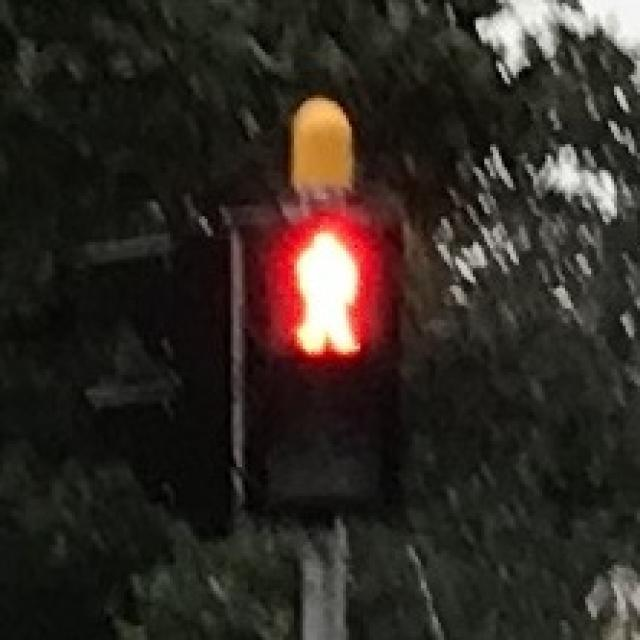red-crossing: (248, 202, 392, 358)
